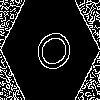O: (25, 25, 77, 82)
